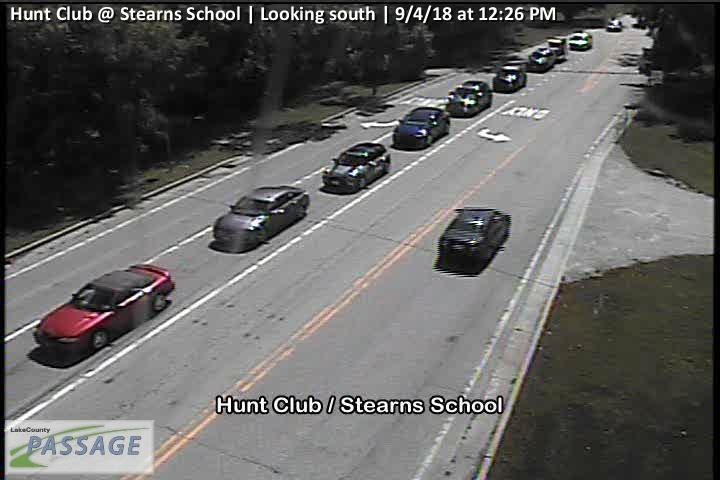Sedan: (33, 263, 176, 362), (213, 185, 311, 251), (434, 206, 512, 274), (324, 141, 391, 195), (391, 105, 450, 150), (446, 80, 492, 117), (495, 65, 527, 93), (527, 47, 555, 71), (569, 32, 592, 49), (605, 19, 621, 30)
